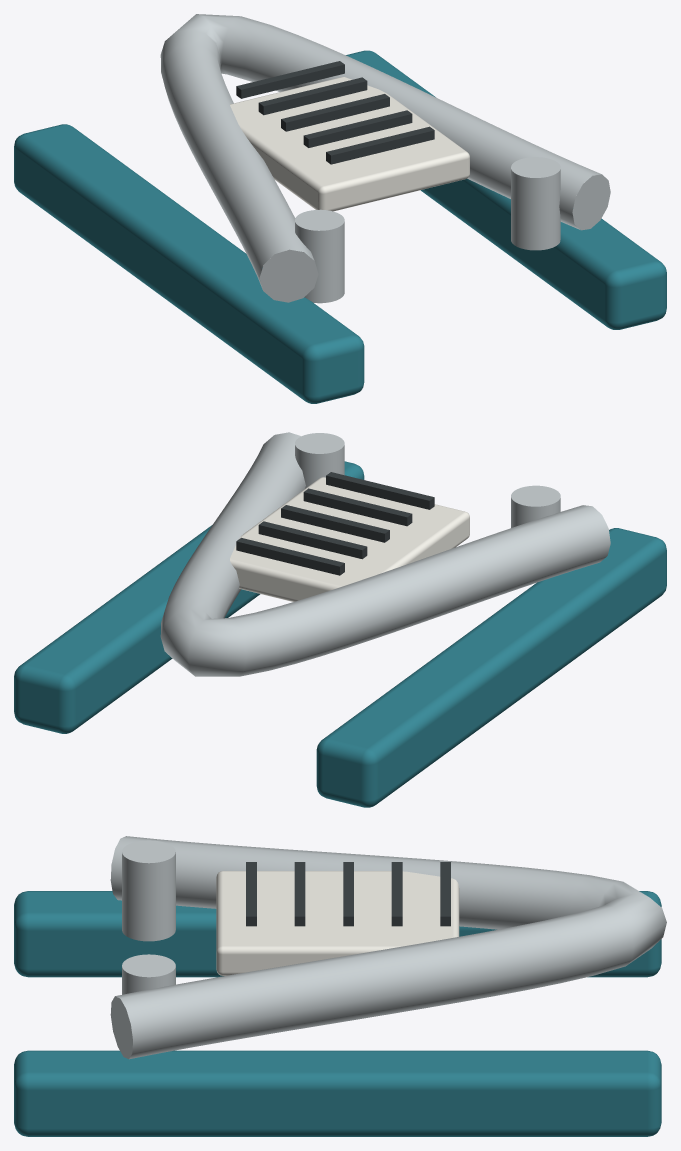
File: bicycle-shop-and-repair-cafe-spoke-tension-meter-1465d017__32392.glb
The picture shows the model from 3 angles, top to bottom: view 1: azimuth 30°, elevation 25°; view 2: azimuth 150°, elevation 25°; view 3: azimuth 270°, elevation 25°; orthographic projection. The views are drawn at different scales.
Parts seen in each view (by area): view 1: spoke-tension-meter; view 2: spoke-tension-meter; view 3: spoke-tension-meter.
Boxes of the visible parts, x1,y1,x2,y2 form: spoke-tension-meter: (14,14,666,403); spoke-tension-meter: (14,432,666,807); spoke-tension-meter: (14,836,666,1136).
Bounding box in the file's own units: 0.084 × 0.032 × 0.121.
